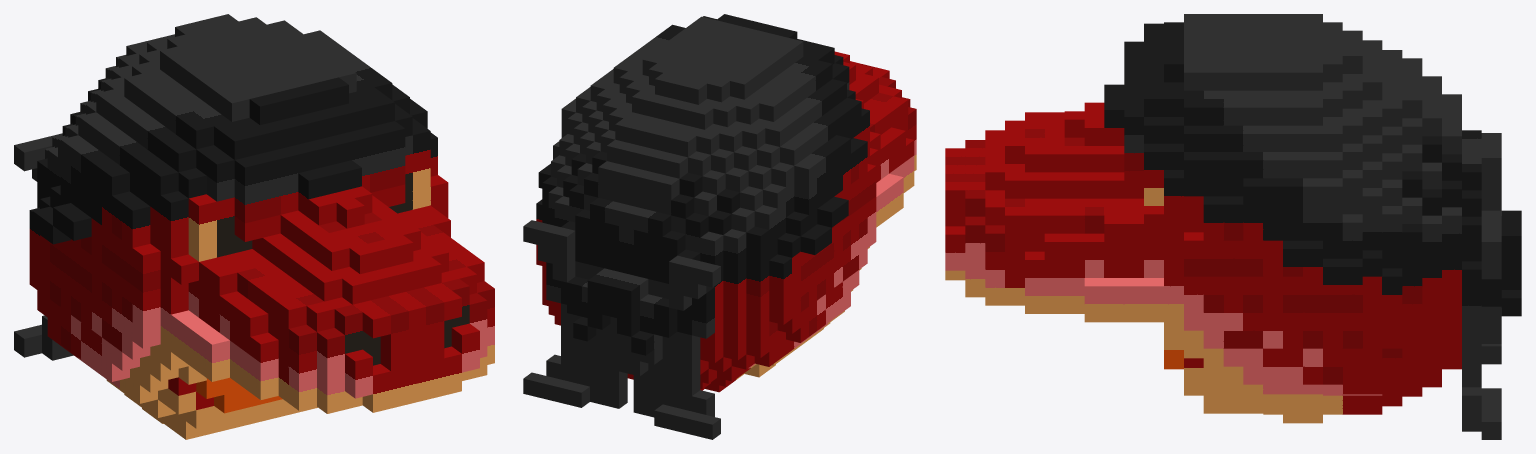
Rendered from black durag_skydiving goggles.gltf.
3 renders of one model, left to right at view 1: azimuth 30°, elevation 25°; view 2: azimuth 150°, elevation 25°; view 3: azimuth 270°, elevation 25°, orthographic. The views are drawn at different scales.
Parts seen in each view (by area): view 1: C17_H_blacDurag_sky-Mesh; view 2: C17_H_blacDurag_sky-Mesh; view 3: C17_H_blacDurag_sky-Mesh.
Part boxes in pixels (x1,y1,x2,y2): C17_H_blacDurag_sky-Mesh: (14,14,494,439); C17_H_blacDurag_sky-Mesh: (523,14,916,439); C17_H_blacDurag_sky-Mesh: (945,14,1521,439).
Size of the model in its own units: 19 by 19 by 29.
Materials: 1 (1 with a texture image).
